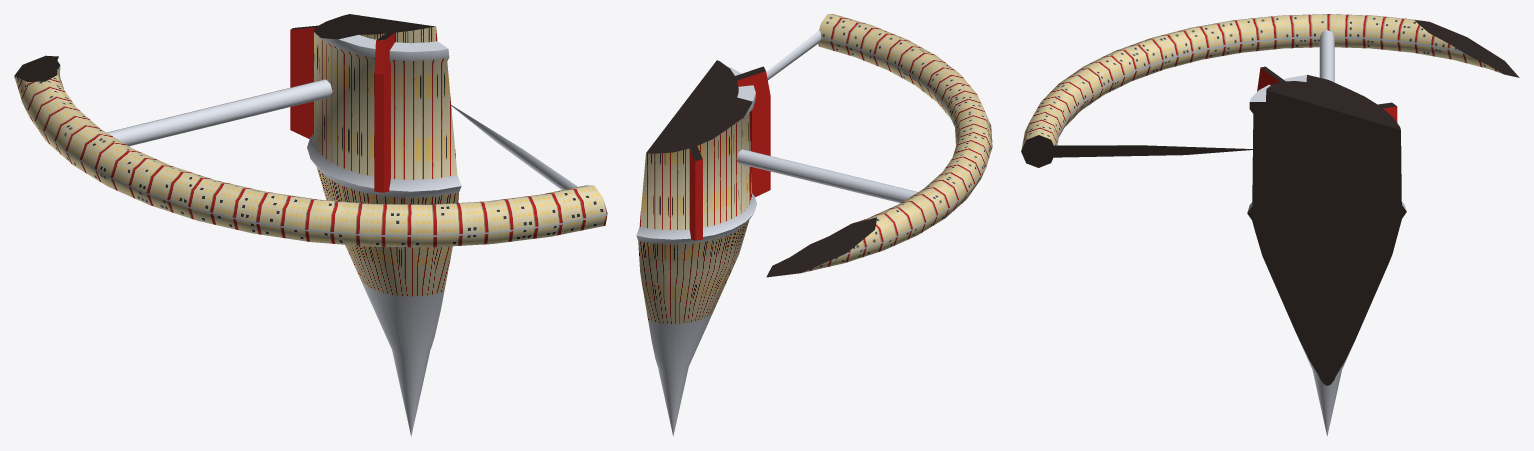
Rendered from guard_station_debris4.obj.
The picture shows the model from 3 angles, left to right: view 1: azimuth 30°, elevation 25°; view 2: azimuth 150°, elevation 25°; view 3: azimuth 270°, elevation 25°; orthographic projection. The views are drawn at different scales.
Visible parts, largest first — view 1: tower, ring, spoke, buttress225, buttress315; view 2: tower, ring, spoke, buttress225, buttress315; view 3: tower, ring, spoke.
Part boxes in pixels (bbox=[...]): tower: bbox=[307, 14, 461, 436]; ring: bbox=[14, 55, 607, 247]; spoke: bbox=[107, 79, 577, 189]; buttress225: bbox=[374, 25, 403, 192]; buttress315: bbox=[290, 21, 358, 138]; tower: bbox=[636, 60, 756, 435]; ring: bbox=[766, 14, 992, 277]; spoke: bbox=[736, 30, 917, 202]; buttress225: bbox=[707, 66, 770, 197]; buttress315: bbox=[680, 117, 702, 240]; tower: bbox=[1247, 74, 1406, 435]; ring: bbox=[1021, 14, 1519, 167]; spoke: bbox=[1051, 30, 1334, 157].
Size of the model in its own units: 127 by 151 by 199.
4 materials, 1 textured.
